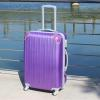luggage: (22, 5, 69, 98)
